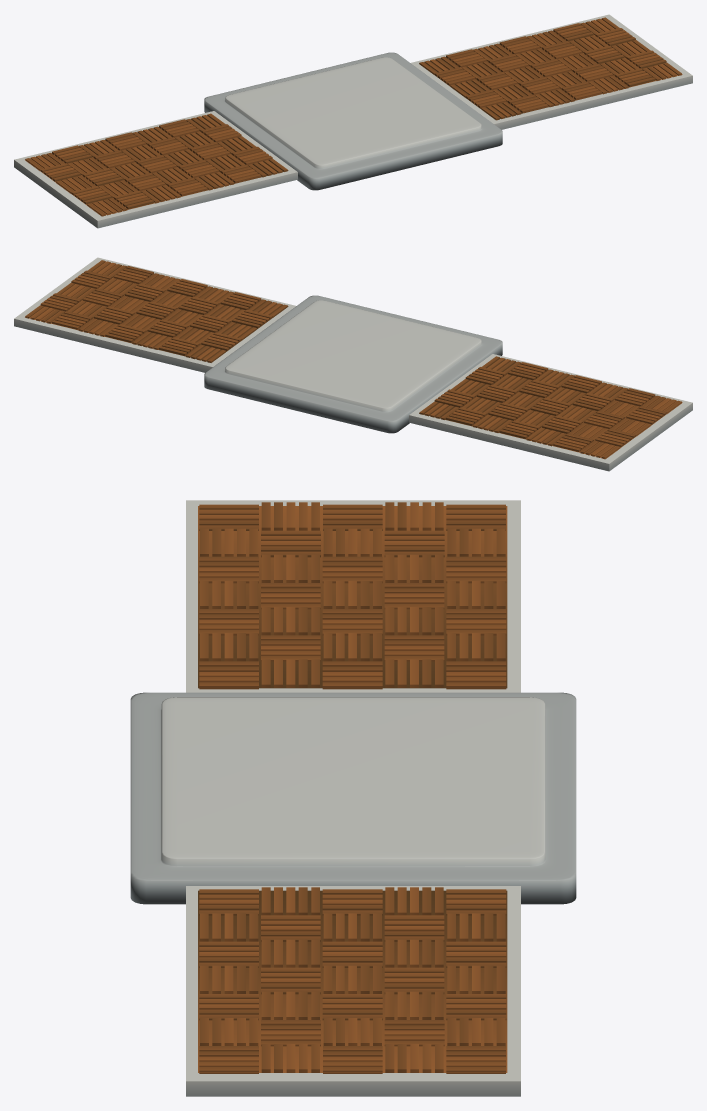
File: chess_Stand_Map.fbx
3 renders of one model, top to bottom at view 1: azimuth 30°, elevation 25°; view 2: azimuth 150°, elevation 25°; view 3: azimuth 270°, elevation 25°, orthographic. The views are drawn at different scales.
Parts seen in each view (by area): view 1: board_Stand_GEO; view 2: board_Stand_GEO; view 3: board_Stand_GEO.
Part boxes in pixels (left/top/right/bottom): board_Stand_GEO: left=14, top=14, right=692, bottom=228; board_Stand_GEO: left=14, top=257, right=692, bottom=471; board_Stand_GEO: left=130, top=500, right=576, bottom=1096.
Bounding box in the file's own units: 2322 × 63.07 × 753.
